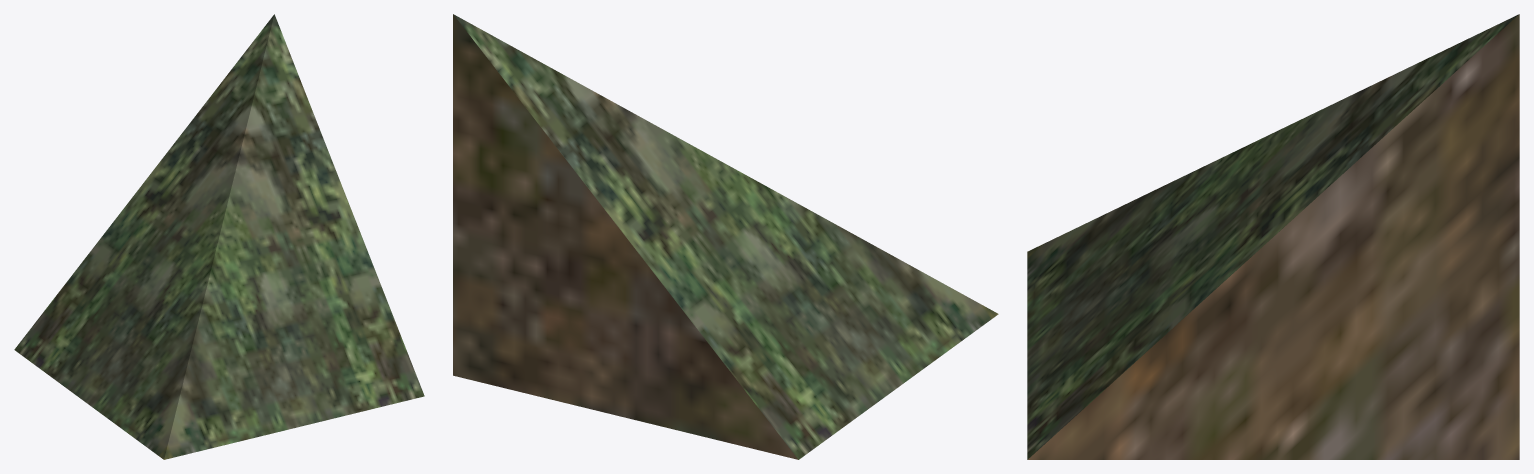
Rendered from anglegrass.glb.
3 views of the same model, side by side, from view 1: azimuth 30°, elevation 25°; view 2: azimuth 150°, elevation 25°; view 3: azimuth 270°, elevation 25° (orthographic). The views are drawn at different scales.
Parts seen in each view (by area): view 1: angle; view 2: angle; view 3: angle.
Boxes of the visible parts, <box> form: angle: <box>14,14,424,459</box>; angle: <box>453,14,998,459</box>; angle: <box>1027,14,1519,459</box>.
Size of the model in its own units: 1 by 1 by 1.
1 material, 1 textured.
